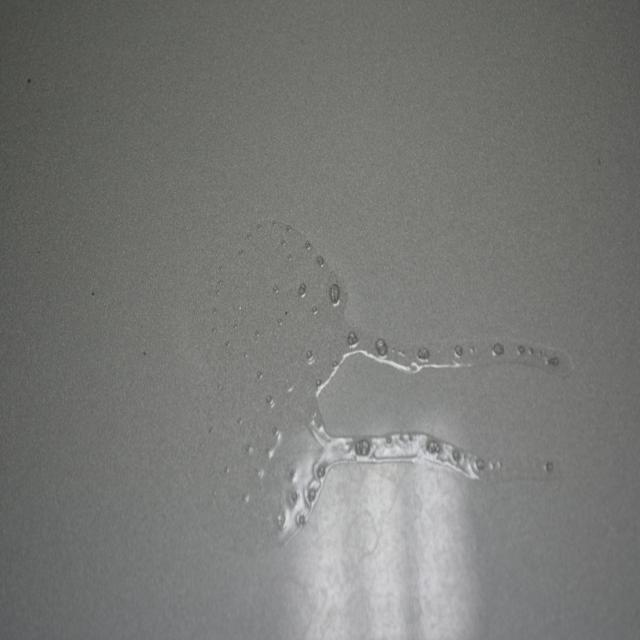dirt: (24, 73, 33, 85), (141, 347, 148, 361), (88, 288, 97, 298)
runs: (194, 221, 572, 541)
